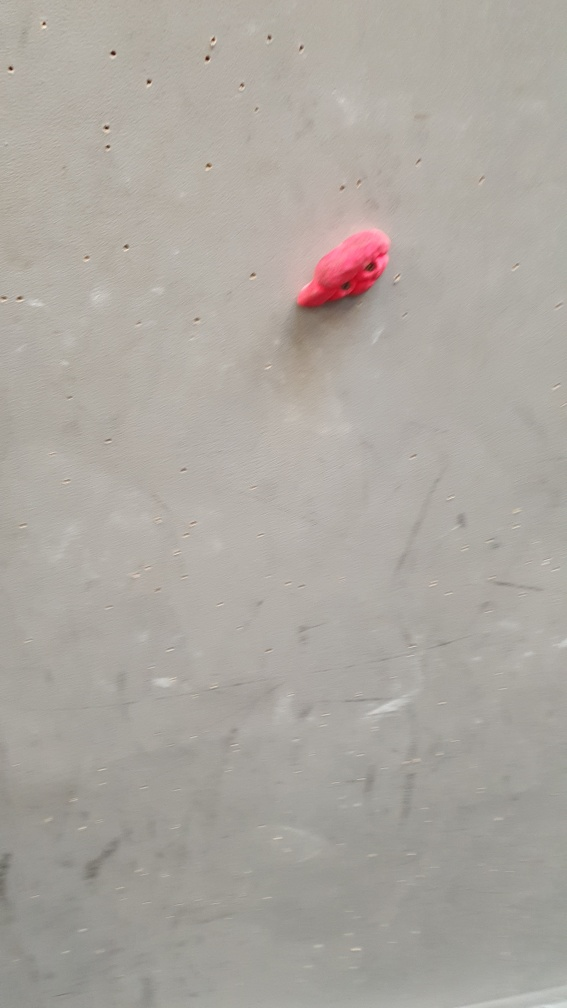Jug: (296, 224, 393, 317)
